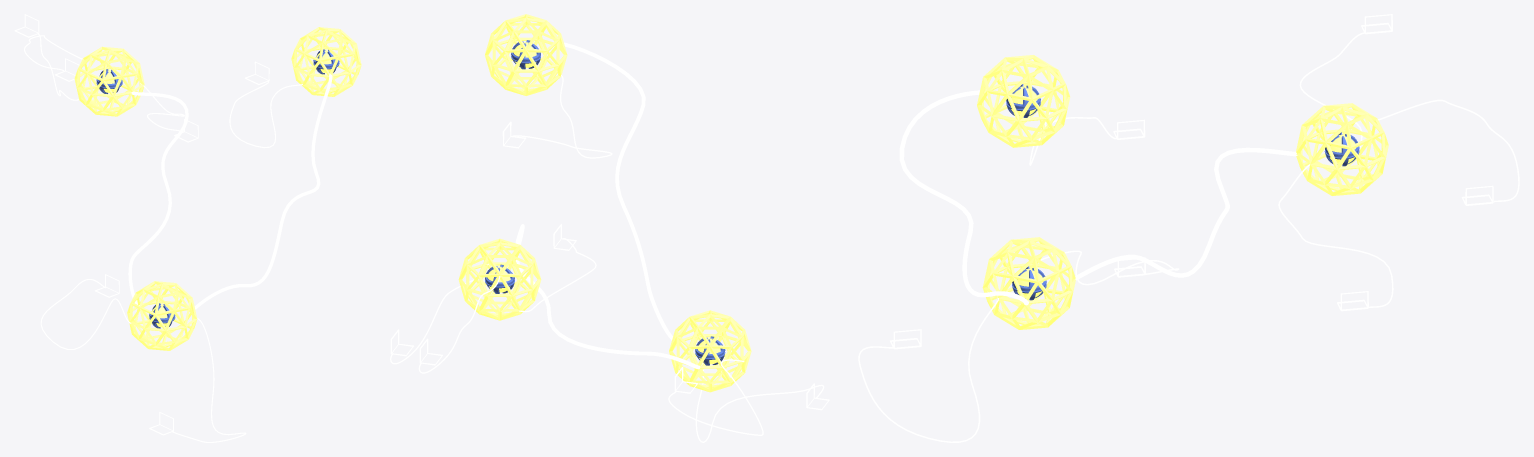
The model's file is cloud2.glb.
3 renders of one model, left to right at view 1: azimuth 30°, elevation 25°; view 2: azimuth 150°, elevation 25°; view 3: azimuth 270°, elevation 25°, orthographic. The views are drawn at different scales.
Visible parts, largest first — view 1: yellowShell2, yellowShell, yellowShell3, yellowCable.007, yellowCable.006, yellowCable.005, yellowCable.004, yellowCable.003; view 2: yellowShell3, yellowShell, yellowShell2, yellowCable.007, yellowCable.006, yellowCore2, yellowCore3, yellowCore1; view 3: yellowShell3, yellowShell, yellowShell2, yellowCable.007, yellowCable.006, yellowCable.005.
Boxes of the visible parts, x1=… form: yellowShell2: x1=127, y1=281, x2=197, y2=350; yellowShell: x1=74, y1=46, x2=144, y2=116; yellowShell3: x1=291, y1=27, x2=361, y2=96; yellowCable.007: x1=194, y1=74, x2=332, y2=309; yellowCable.006: x1=128, y1=91, x2=188, y2=305; yellowCable.005: x1=172, y1=318, x2=246, y2=442; yellowCable.004: x1=40, y1=279, x2=131, y2=349; yellowCable.003: x1=229, y1=81, x2=302, y2=148; yellowShell3: x1=485, y1=14, x2=567, y2=95; yellowShell: x1=458, y1=238, x2=541, y2=320; yellowShell2: x1=669, y1=310, x2=751, y2=392; yellowCable.007: x1=564, y1=42, x2=672, y2=340; yellowCable.006: x1=515, y1=224, x2=700, y2=369; yellowCore2: x1=695, y1=336, x2=725, y2=365; yellowCore3: x1=511, y1=40, x2=540, y2=69; yellowCore1: x1=485, y1=264, x2=514, y2=293; yellowShell3: x1=977, y1=55, x2=1070, y2=147; yellowShell: x1=1296, y1=103, x2=1388, y2=195; yellowShell2: x1=982, y1=237, x2=1075, y2=329; yellowCable.007: x1=899, y1=90, x2=1028, y2=305; yellowCable.006: x1=1075, y1=147, x2=1297, y2=280; yellowCable.005: x1=858, y1=298, x2=998, y2=442.
Size of the model in its own units: 27.75 by 34.37 by 43.81.
